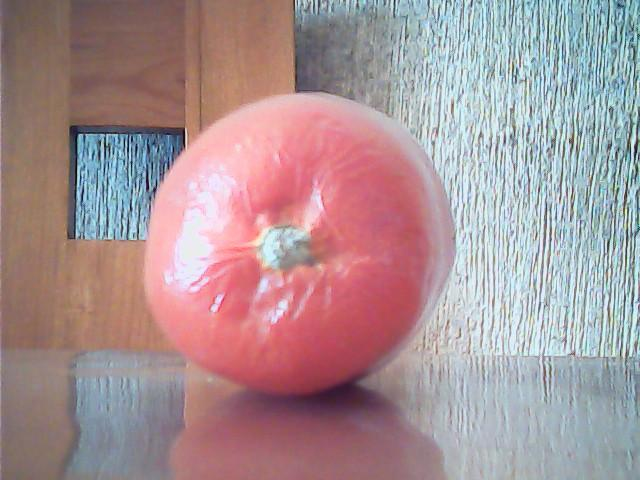defectuoso: (137, 90, 454, 399)
